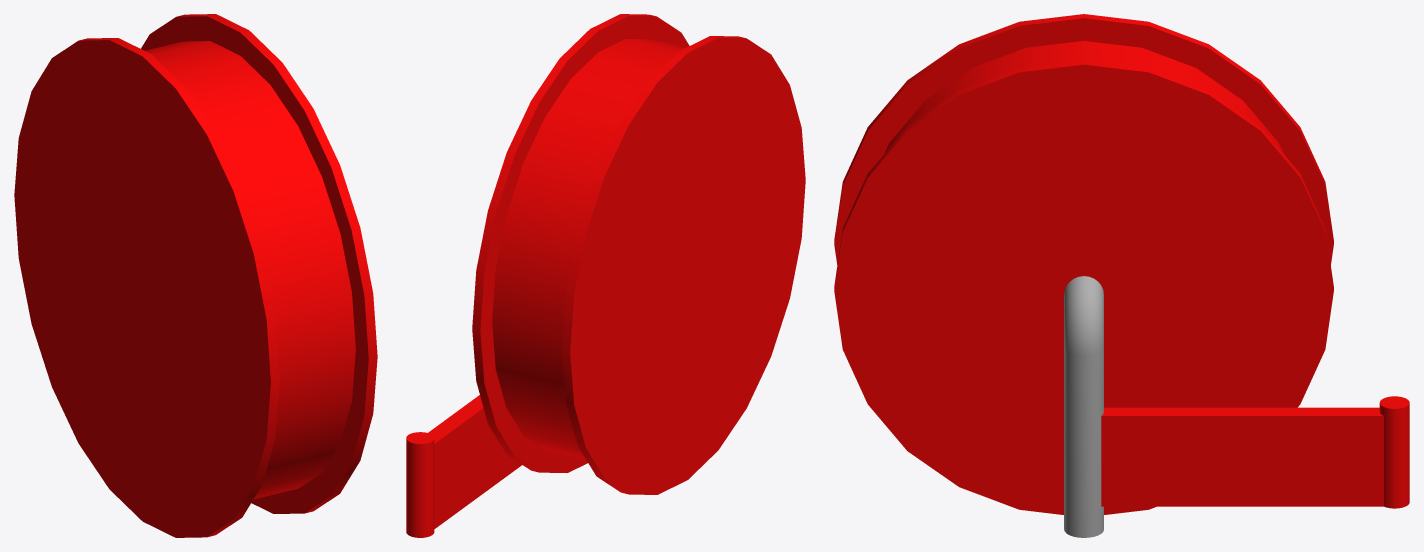
File: FireCabinetHoseReel.dae
The picture shows the model from 3 angles, left to right: view 1: azimuth 30°, elevation 25°; view 2: azimuth 150°, elevation 25°; view 3: azimuth 270°, elevation 25°; orthographic projection. The views are drawn at different scales.
Parts seen in each view (by area): view 1: group_6, SketchUp, group_5; view 2: group_6, SketchUp, group_5, group_1, group_3; view 3: group_5, group_1, group_6, group_2, SketchUp, group_3.
Part boxes in pixels (x1,y1,x2,y2): group_6: [14, 38, 279, 537]; SketchUp: [145, 41, 355, 499]; group_5: [141, 14, 377, 513]; group_6: [562, 36, 805, 494]; SketchUp: [492, 39, 685, 459]; group_5: [472, 14, 689, 472]; group_1: [428, 395, 521, 528]; group_3: [406, 432, 434, 537]; group_5: [834, 60, 1333, 514]; group_1: [1101, 407, 1383, 506]; group_6: [834, 14, 1333, 265]; group_2: [1064, 276, 1103, 537]; SketchUp: [884, 41, 1283, 153]; group_3: [1379, 396, 1409, 508].
Size of the model in its own units: 6.64 by 22.67 by 19.69.
